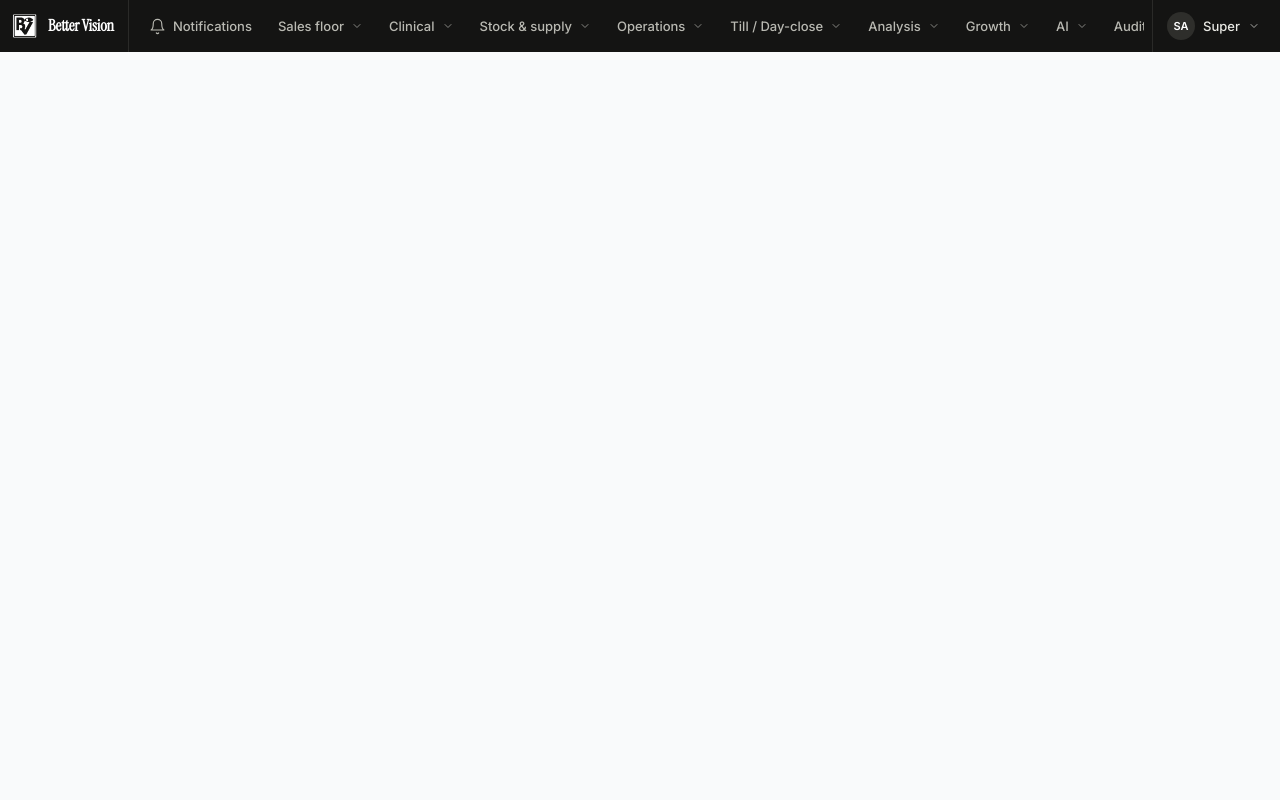
Test: TopNav group dropdowns (tap/click) › (d) clicking a different group switches the open dropdown
Step 1. Click the button "Sales floor" → (320, 26), box [266,8,375,44]
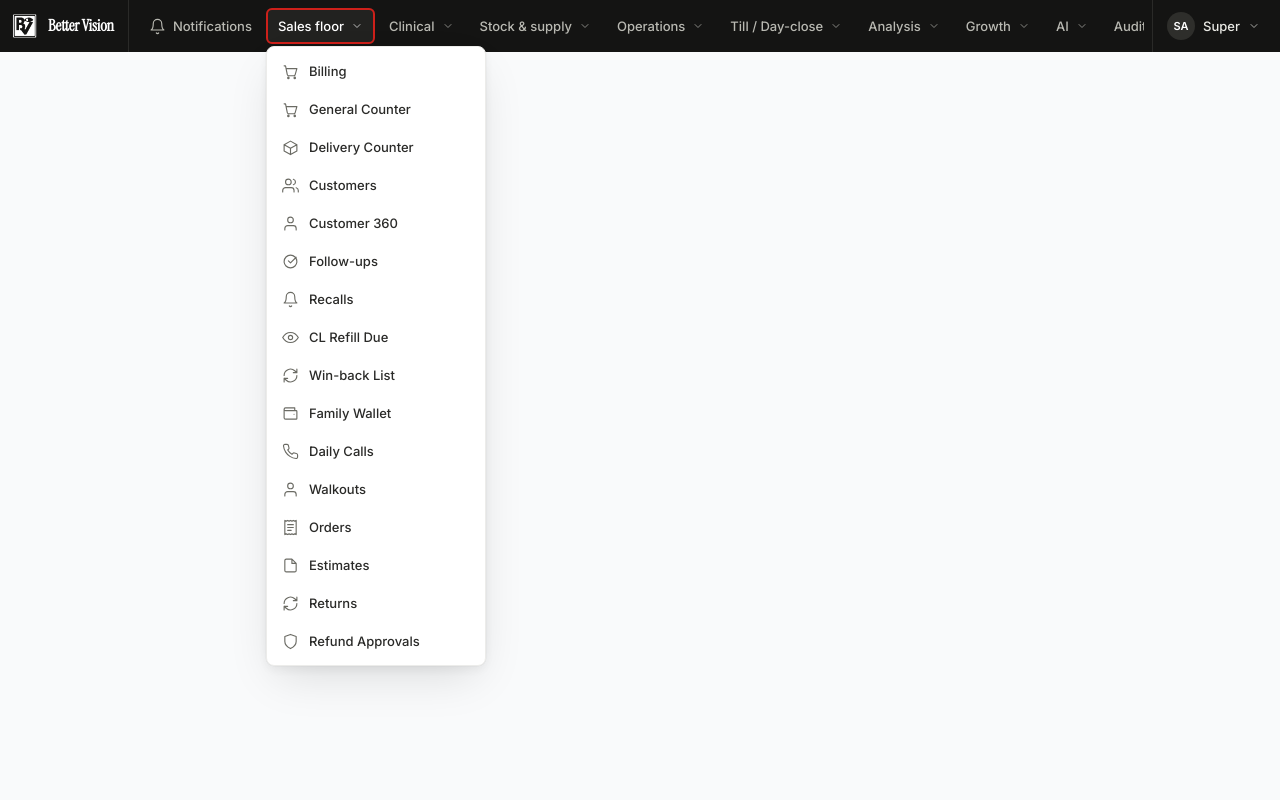
Expected: the menu item "Billing" is shown, [282,62,346,80]
// Switch to "Stock & supply" — first group's items vanish, second's appear.
Step 2. Click the button "Stock & supply" → (535, 26), box [468,8,603,44]
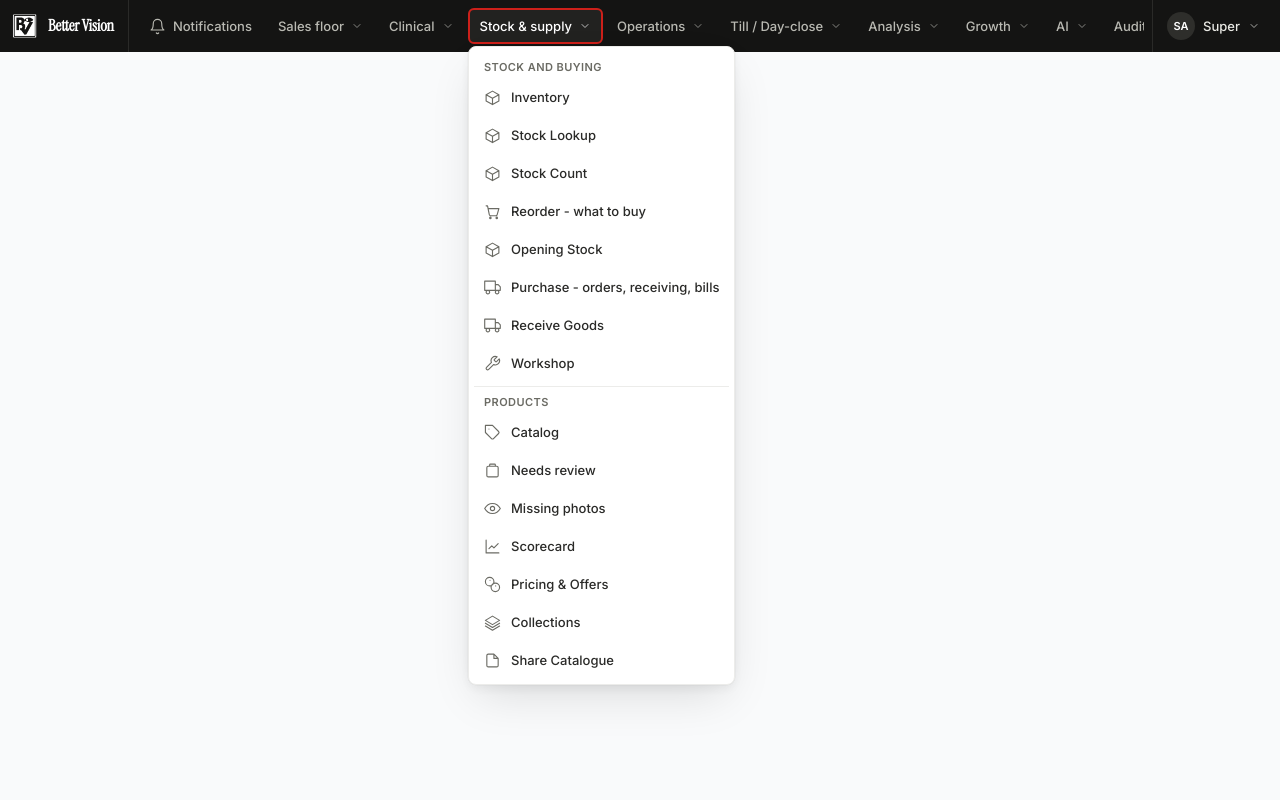
Expected: the menu item "Billing" is gone
Expected: the menu item "Inventory" is shown, [484,88,570,106]
